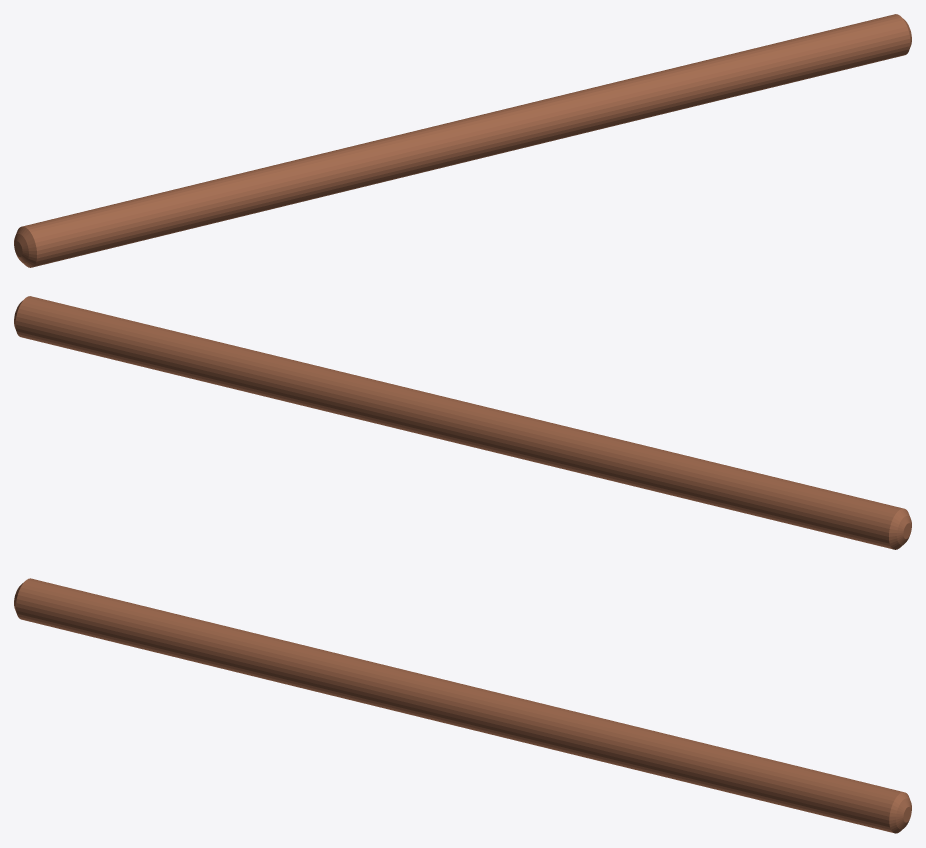
File: objetos_bastao.fbx
3 views of the same model, one above another, from view 1: azimuth 30°, elevation 25°; view 2: azimuth 150°, elevation 25°; view 3: azimuth 330°, elevation 25° (orthographic).
Parts seen in each view (by area): view 1: bastao; view 2: bastao; view 3: bastao.
Boxes of the visible parts, bbox=[...] form: bastao: bbox=[14, 14, 911, 267]; bastao: bbox=[14, 296, 911, 549]; bastao: bbox=[14, 578, 911, 833].
Bounding box in the file's own units: 4838 × 203 × 200.
